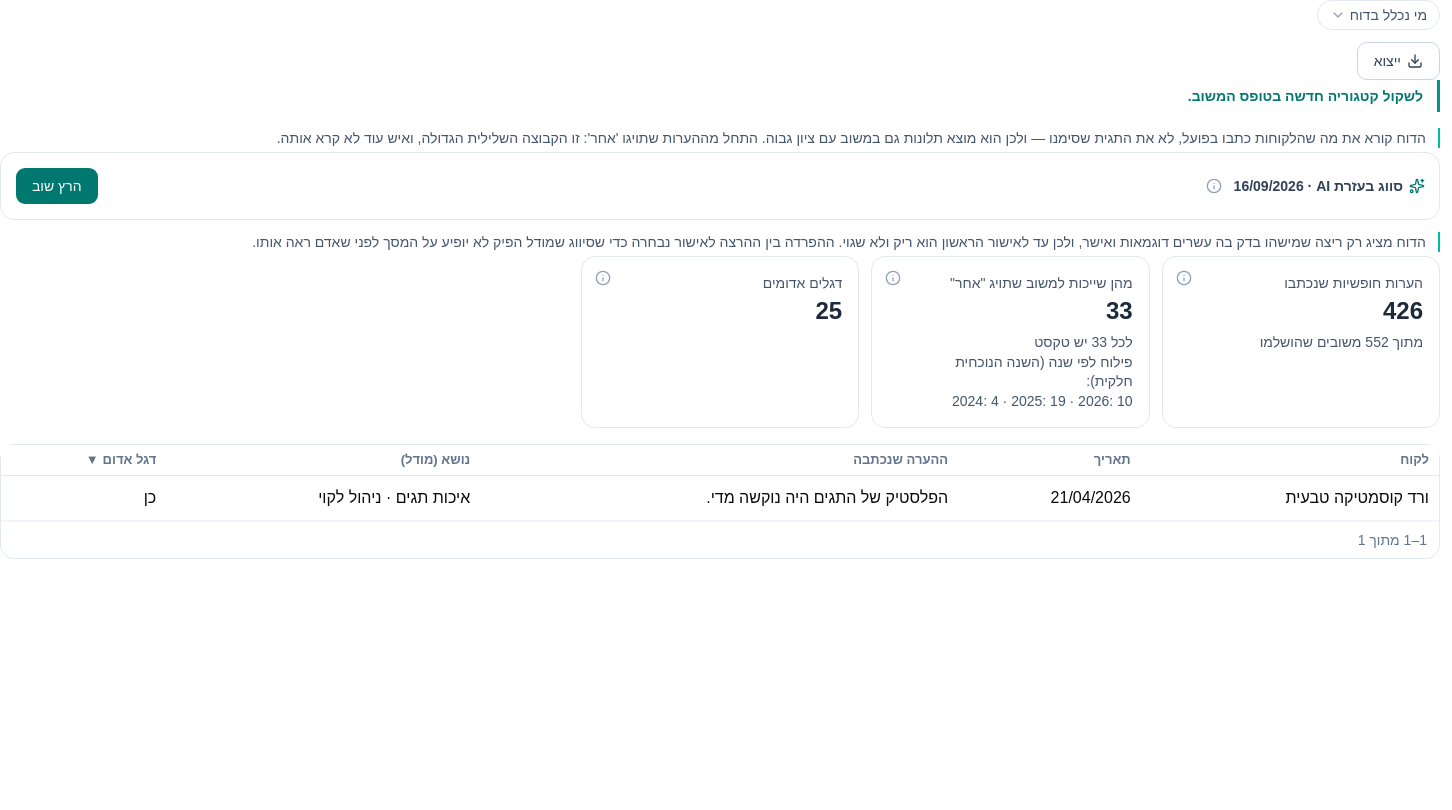
Test: מ22 · ניתוח הערות + מ25 · פס-הניתוח › D1 — במצב המאושר, מי שיש לה `edit` רואה "הריצי שוב"; ו-`noop` משאיר את שורת-ה-AI
The image size is (1452, 810).
Click the button with test id "m25-run-button". click: (57, 186)
box: [15,167,98,205]
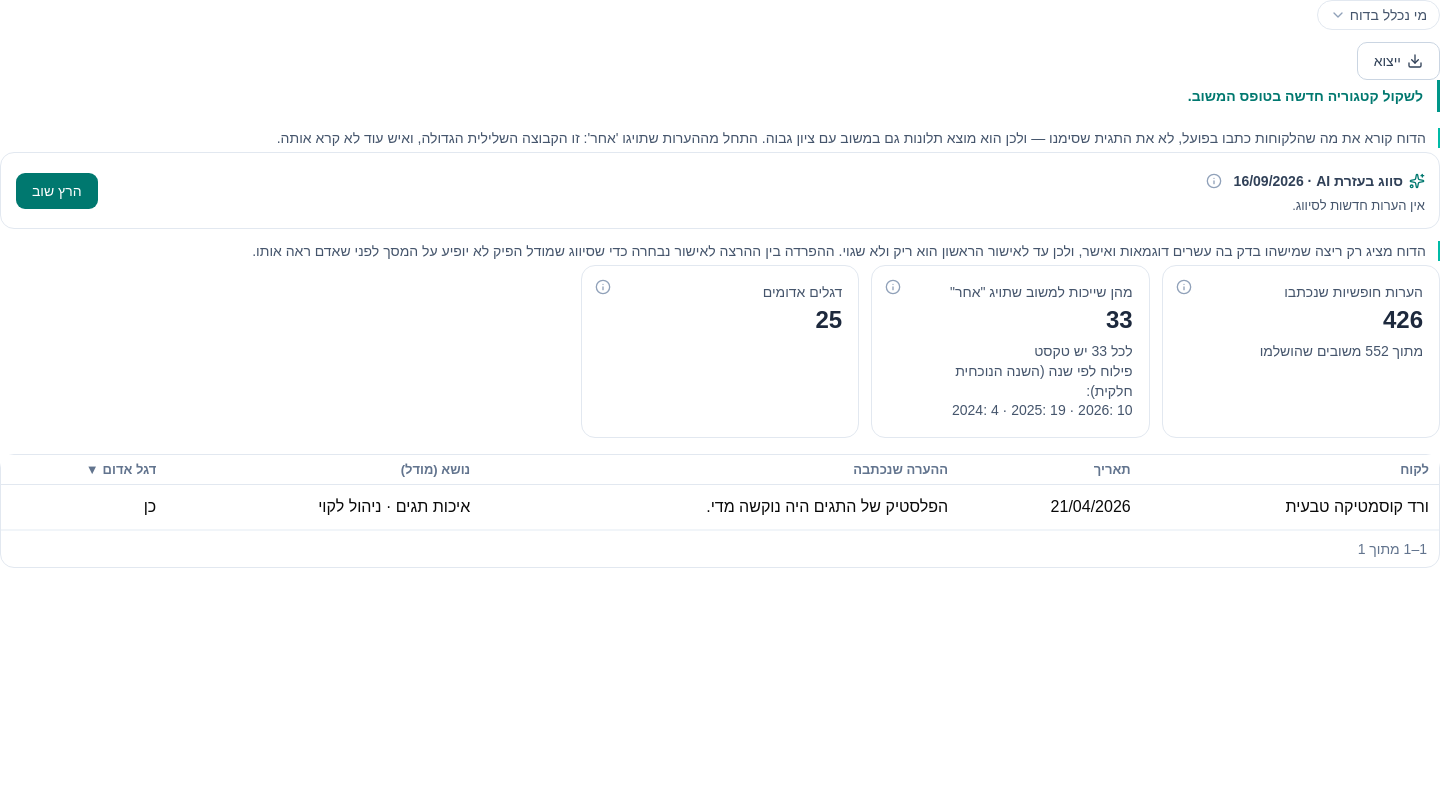
expect the text with test id "m25-run-text" shows "סווג בעזרת AI": met, box [1234,173,1403,189]
expect the text with test id "m25-run-sub" reads "אין הערות חדשות לסיווג.": met, box [1292,198,1425,213]
